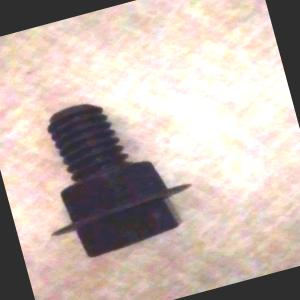parafuso: (20, 78, 206, 266)
